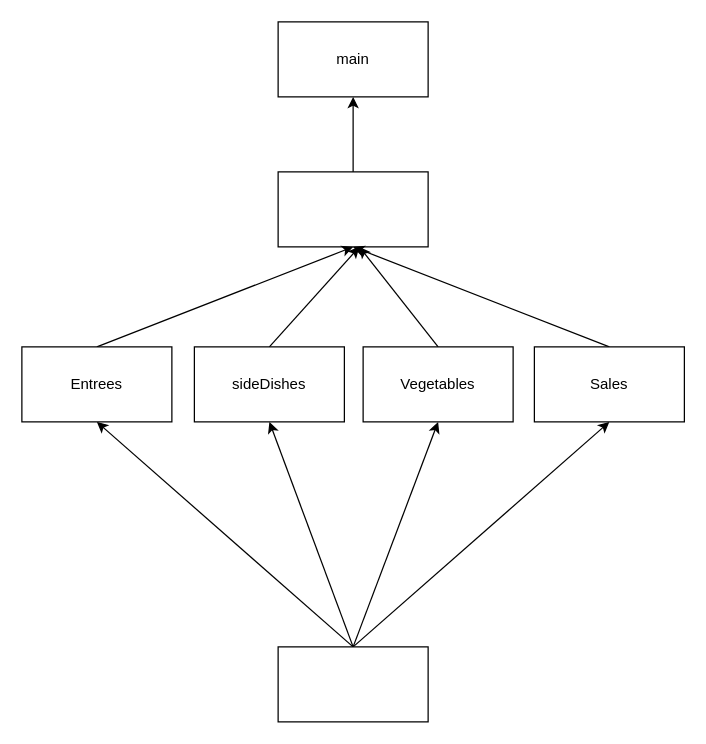
Some shapes in this 706 by 744 pixel diagram are drawn without their labels. The shapes that lost their labels are listed below. From the top down, each one's centre as x and y in pixels, then its label:
pixel 352 209: Foodtruck
pixel 352 684: database
